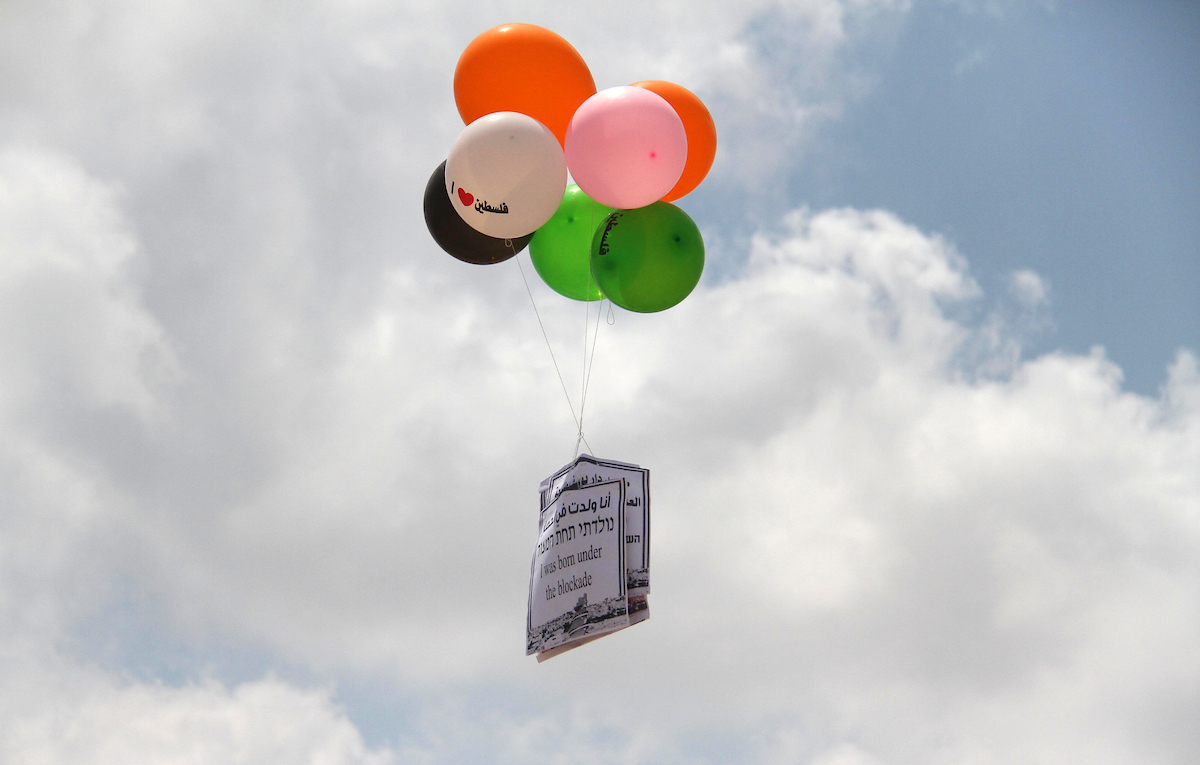Balloon: (454, 22, 597, 142), (449, 111, 566, 237), (567, 87, 688, 206), (589, 202, 705, 313), (529, 198, 615, 299)
